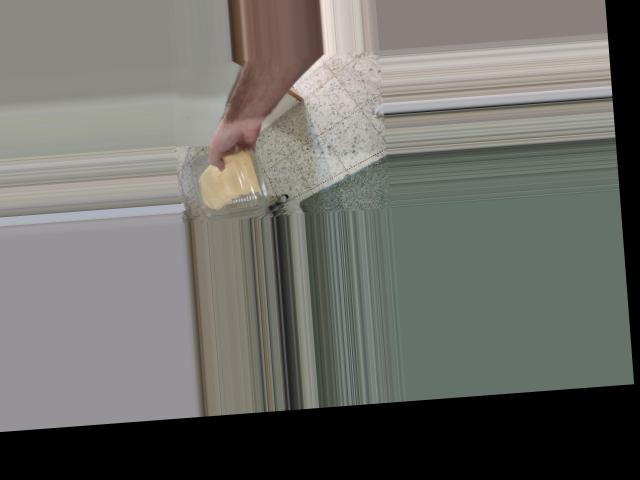cheese: (193, 146, 268, 216)
